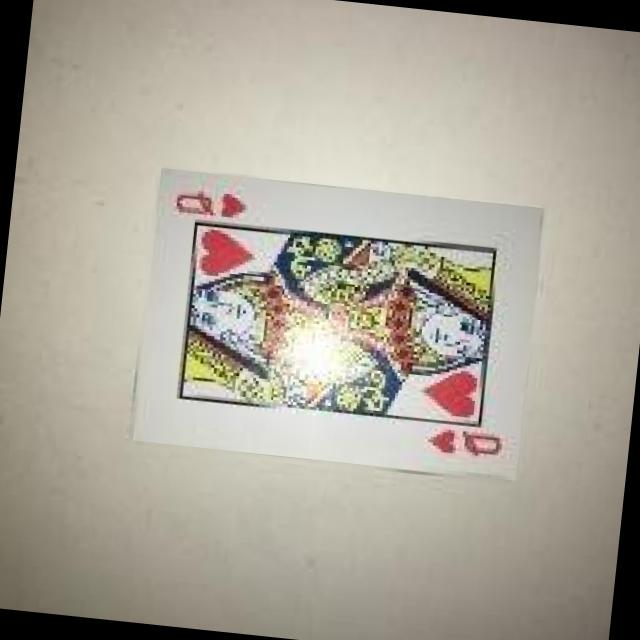Queen of hearts: (133, 174, 542, 478)
